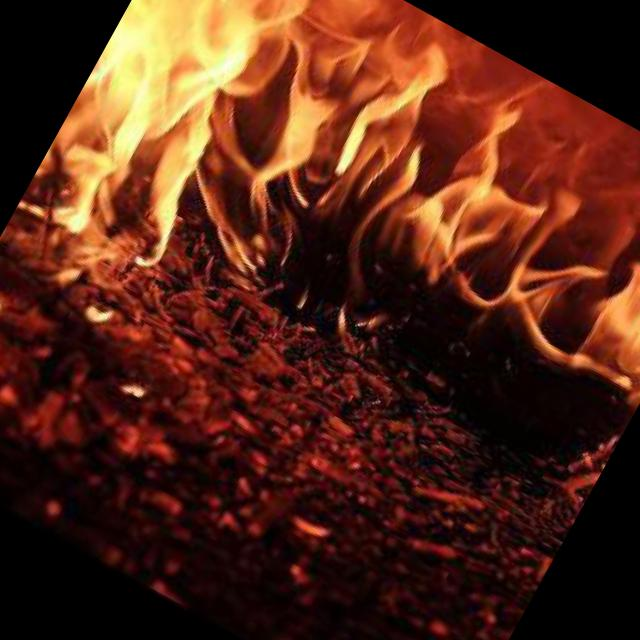fire: (13, 0, 640, 523)
